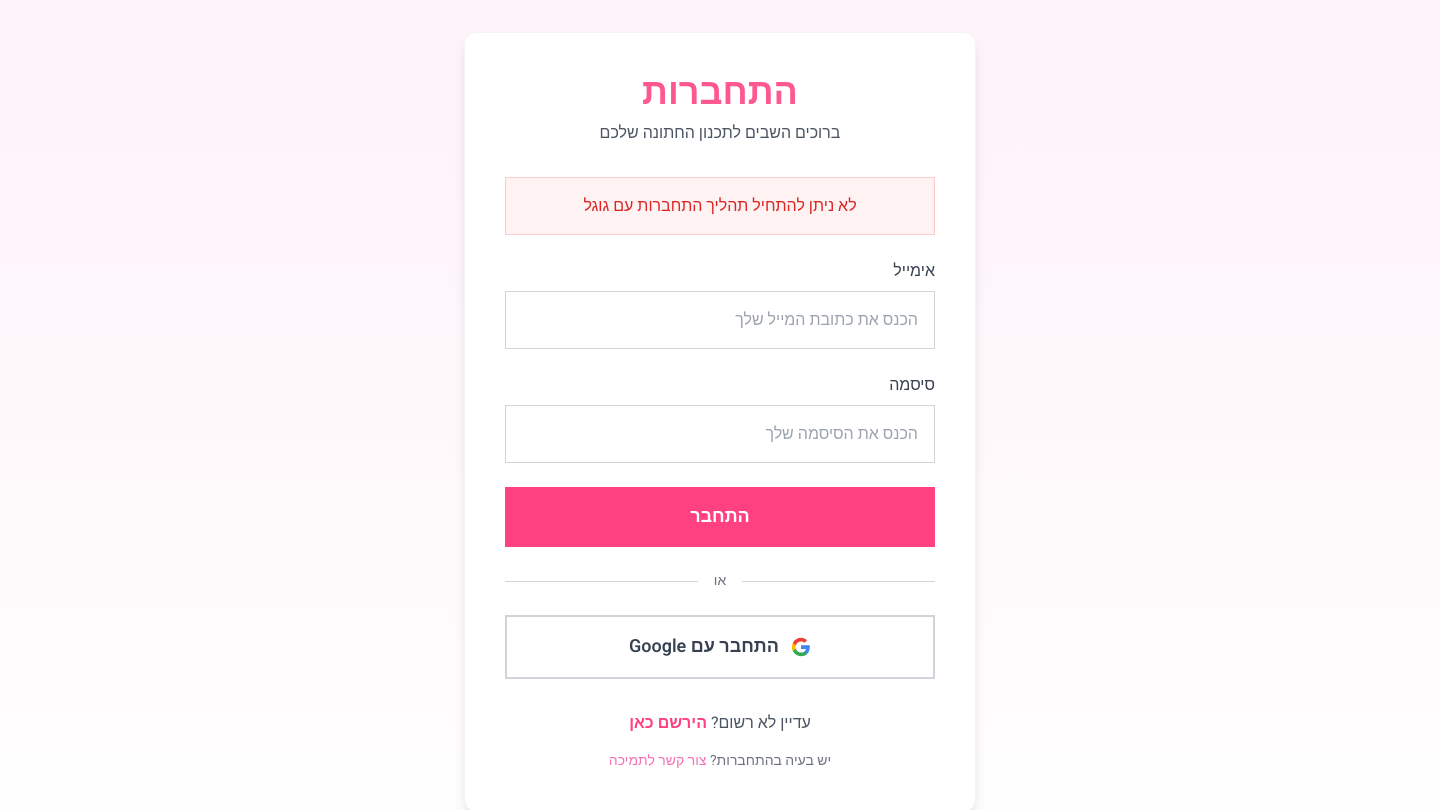
Test: Login Page › handles login error responses
In the field labelled "אימייל": (720, 320) [505, 291, 935, 349], type "test@example.com"
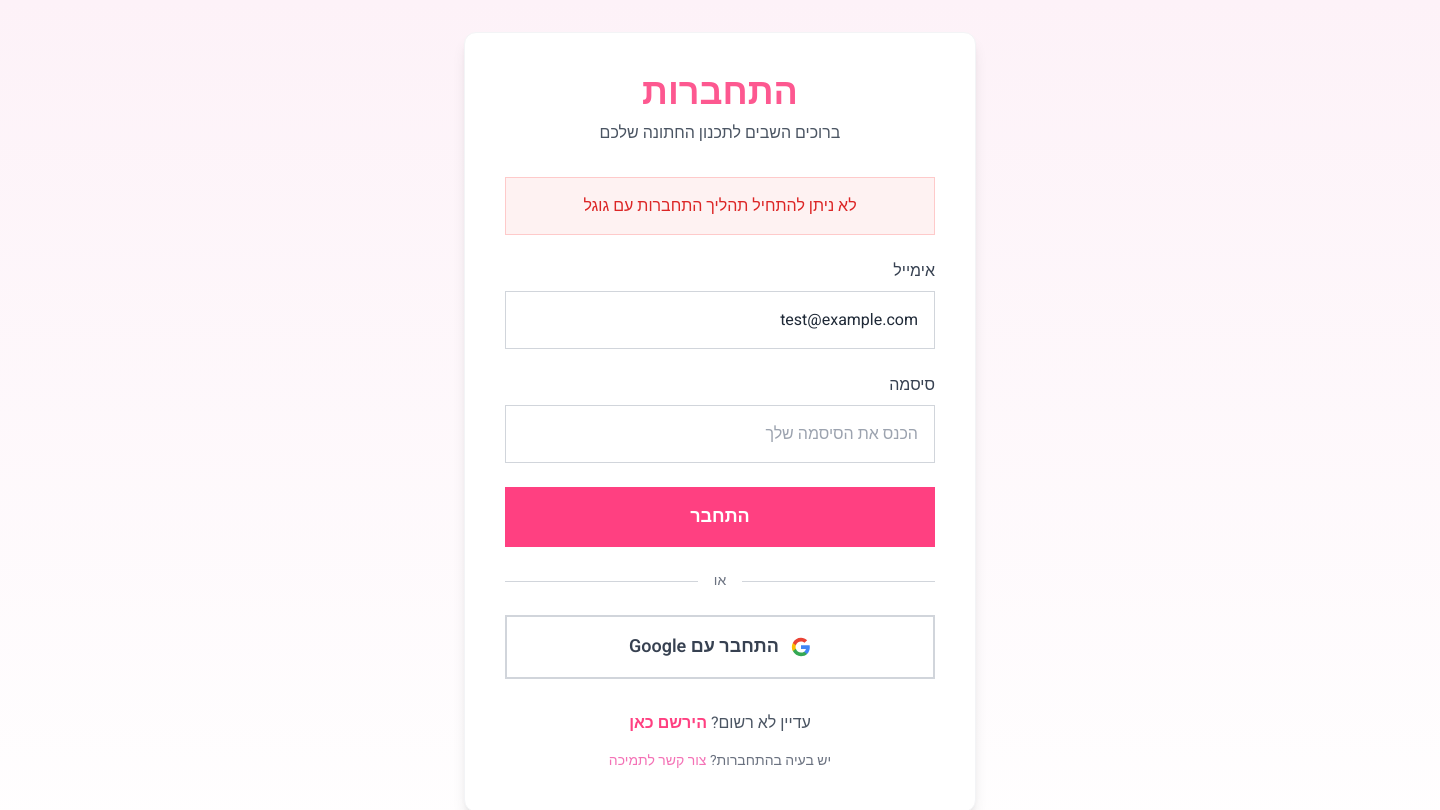
In the password field labelled "סיסמה": (720, 434) [505, 405, 935, 463], type "wrongpassword"
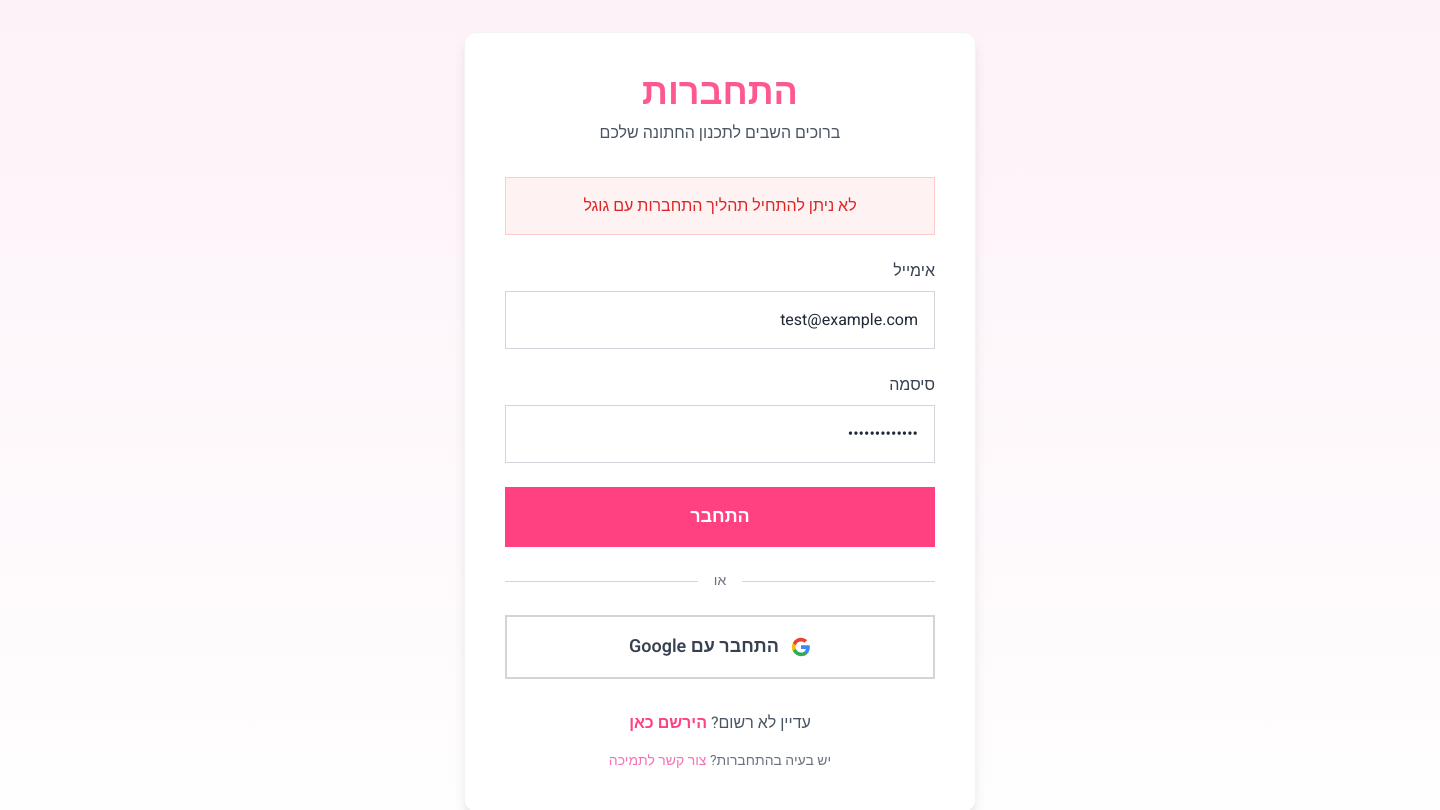
Click the button "התחבר": (720, 517) [505, 487, 935, 547]
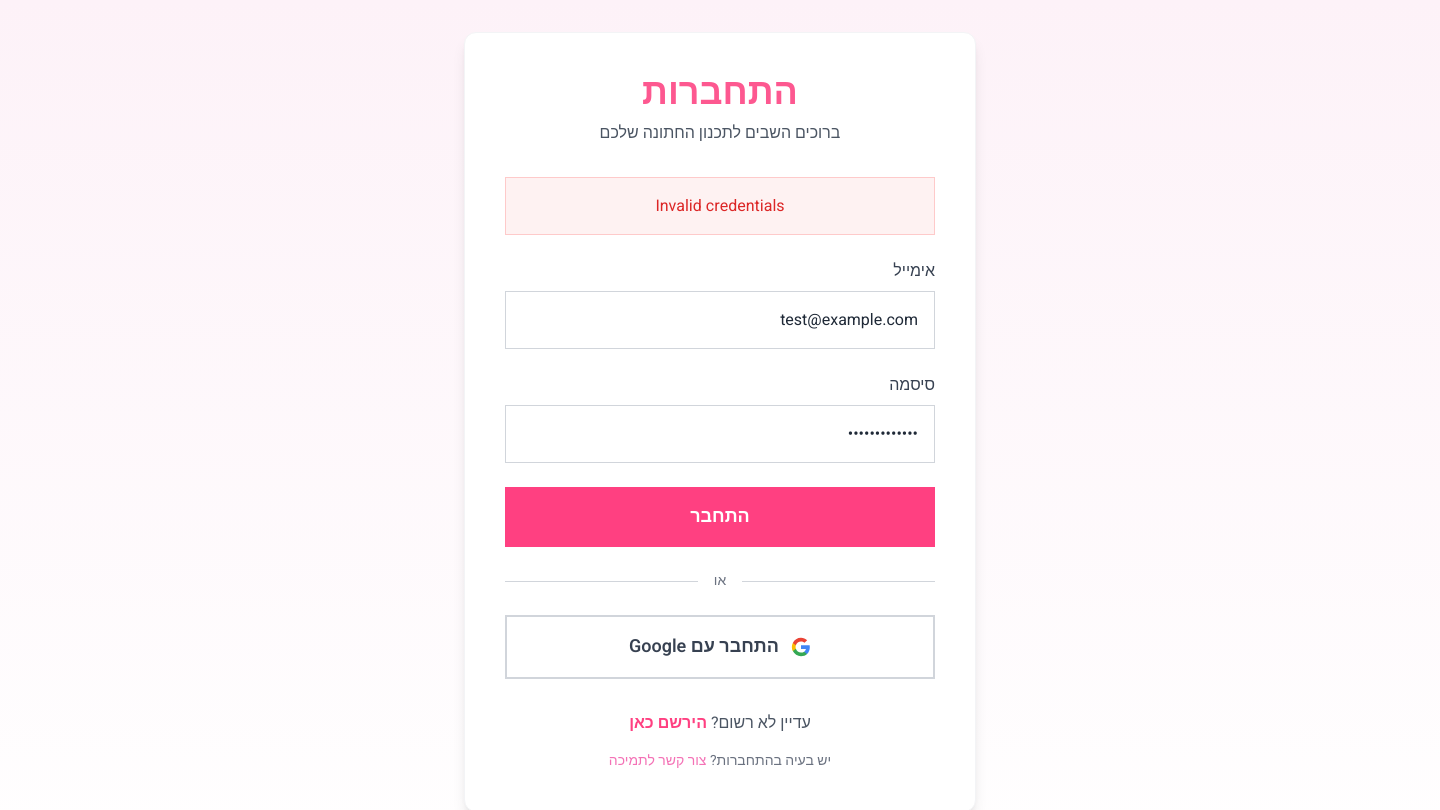
Check: the text "Invalid credentials" is shown, box [505, 177, 935, 235]
